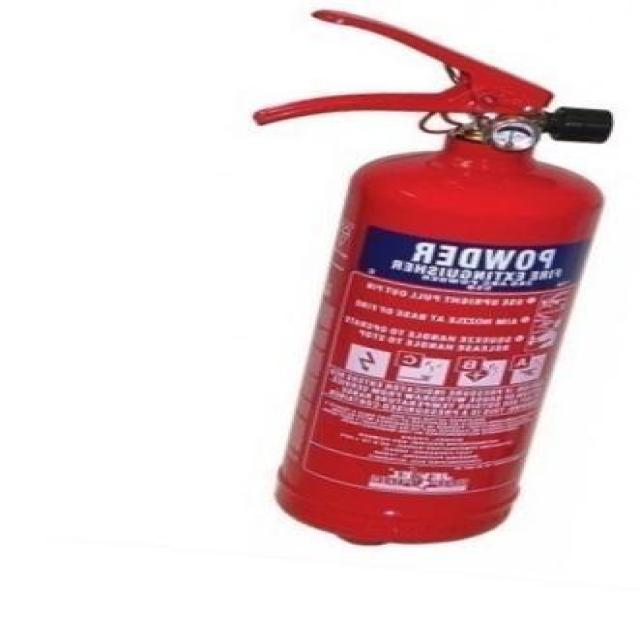fire_extinguisher: (238, 0, 638, 549)
